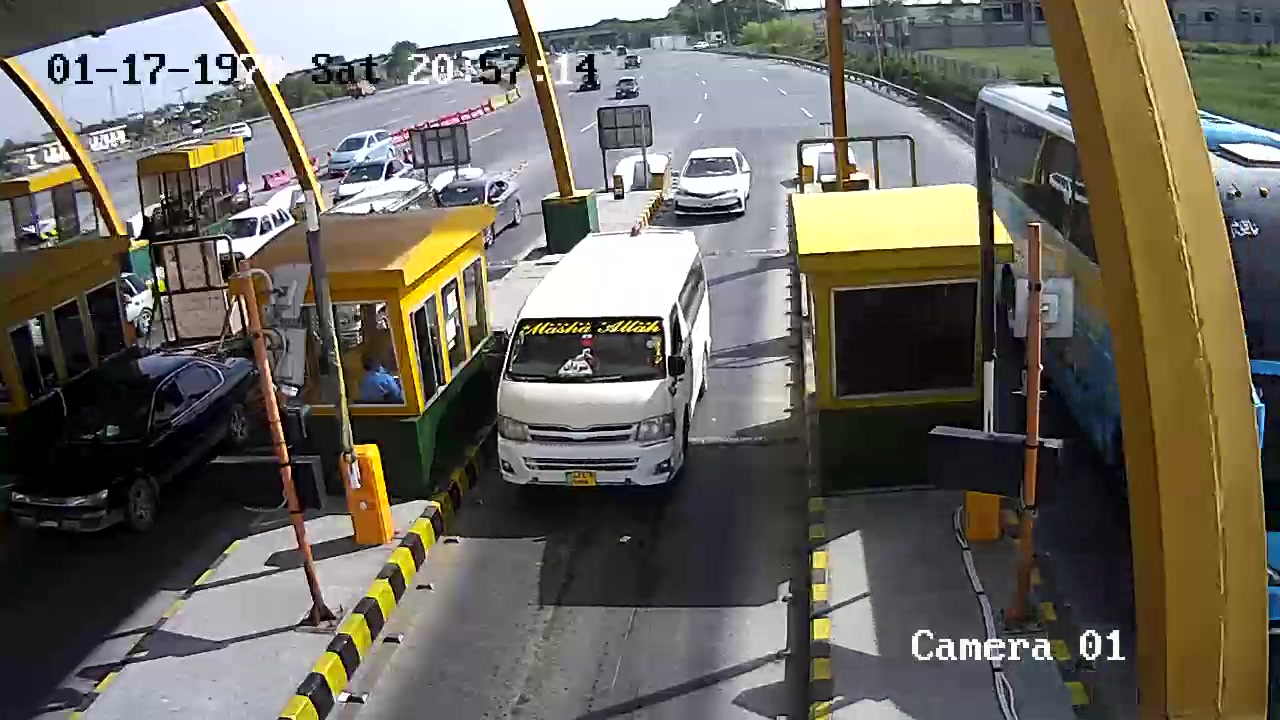F2: (492, 227, 718, 515)
